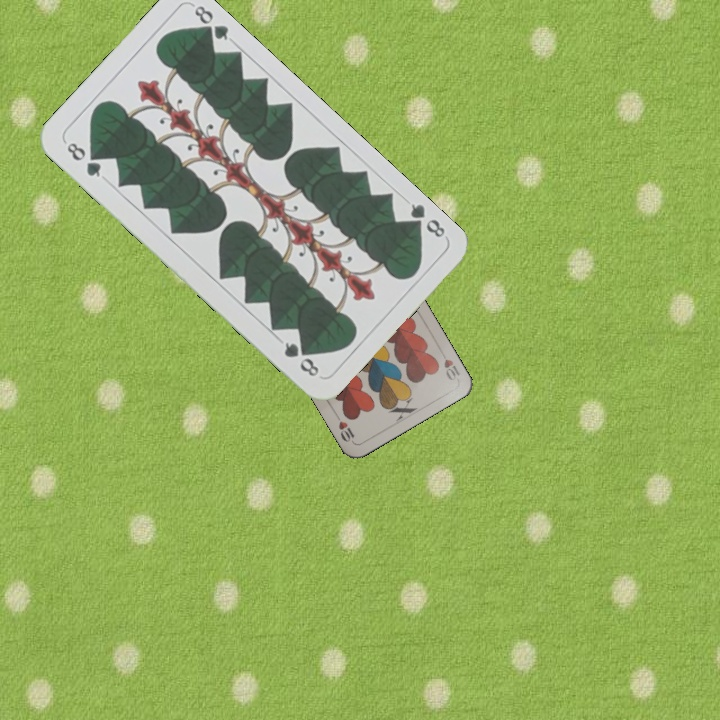G8: (403, 199, 448, 241), (62, 138, 104, 180)
H10: (436, 345, 462, 383)
